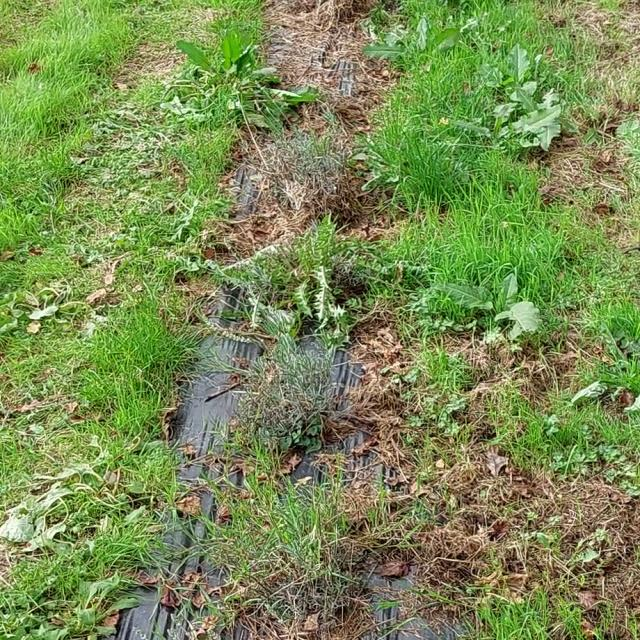organic waste: (6, 462, 134, 576), (168, 30, 302, 138), (436, 261, 551, 334), (361, 5, 482, 73), (442, 92, 536, 156), (12, 271, 88, 349), (478, 51, 572, 105), (492, 84, 570, 147)
